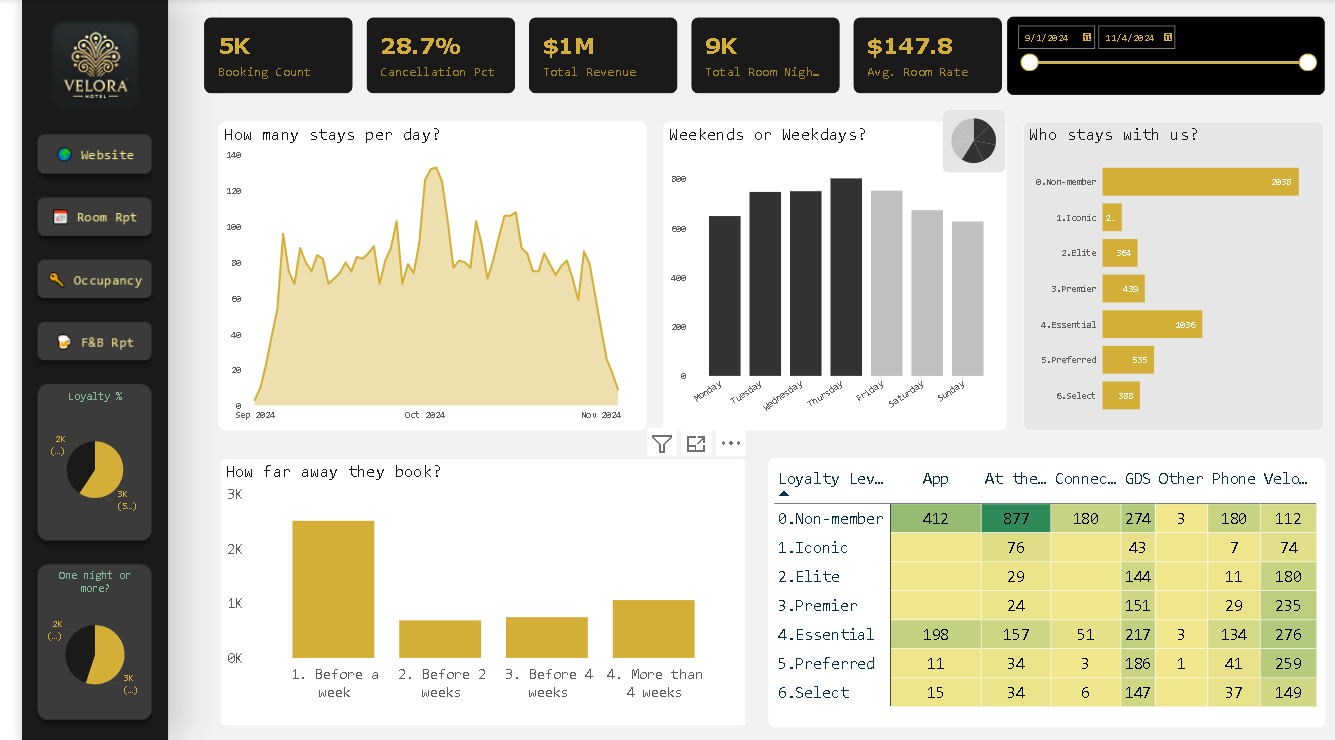

The page's visual inventory and layout, read from the dashboard file:
{"tool":"powerbi","page":{"name":"Bookings Report BLANK","canvas":[1920,1080],"ordinal":0},"visuals":[{"type":"cardVisual","fields":{"Data":["bookings.Booking Count","bookings.Cancellation Pct","bookings.Total Revenue","bookings.Total Room Nights","bookings.Avg. Room Rate"]},"box":[258,22,1168,120],"z":0},{"type":"lineChart","title":"How many stays per day?","fields":{"Category":["bookings.Stay Date"],"Y":["bookings.Booking Count"]},"box":[285,177.5,620,447.5],"z":1000},{"type":"slicer","fields":{"Values":["bookings.Stay Date"]},"box":[1425.6,25.6,460,113.3],"z":2000},{"type":"clusteredColumnChart","title":"Weekends or Weekdays?","fields":{"Category":["bookings.Day Name"],"Y":["bookings.Booking Count"]},"box":[927.5,177.5,497.5,447.5],"z":3000},{"type":"pieChart","fields":{"Y":["bookings.Booking Count"],"Category":["bookings.Day Name"]},"box":[1332.5,160,92.5,92.5],"z":4000},{"type":"clusteredBarChart","title":"Who stays with us?","fields":{"Category":["bookings.Loyalty Level"],"Y":["bookings.Booking Count"]},"box":[1450,177.5,435,447.5],"z":5000},{"type":"clusteredColumnChart","title":"How far away they book?","fields":{"Category":["bookings.How far away bucket"],"Y":["bookings.Booking Count"]},"box":[286,664,764,390],"z":6000},{"type":"pivotTable","fields":{"Rows":["bookings.Loyalty Level"],"Columns":["bookings.Booking Channel"],"Values":["bookings.Booking Count"]},"box":[1080,664,806,390],"z":7000},{"type":"pieChart","title":"Loyalty %","fields":{"Y":["bookings.Loyal Customer Booking Count","bookings.Not Loyal Customer Booking Count"]},"box":[28.2,566.4,153.6,211.8],"z":8000},{"type":"pieChart","title":"One night or more?","fields":{"Y":["bookings.Multi-night booking count","bookings.Single night booking count"]},"box":[28.2,825.5,153.6,211.8],"z":9000}]}

Visuals, with their boxes on the page's 1920x1080 design canvas (x1, y1, x2, y2). These are canvas units, not pixel positions in the 1335x740 screenshot, which may show the page scaled, cropped or inside an application window:
cardVisual - bookings.Booking Count x bookings.Cancellation Pct: x1=258, y1=22, x2=1426, y2=142
"How many stays per day?" lineChart: x1=285, y1=178, x2=905, y2=625
slicer - bookings.Stay Date: x1=1426, y1=26, x2=1886, y2=139
"Weekends or Weekdays?" clusteredColumnChart: x1=928, y1=178, x2=1425, y2=625
pieChart - bookings.Booking Count x bookings.Day Name: x1=1332, y1=160, x2=1425, y2=252
"Who stays with us?" clusteredBarChart: x1=1450, y1=178, x2=1885, y2=625
"How far away they book?" clusteredColumnChart: x1=286, y1=664, x2=1050, y2=1054
pivotTable - bookings.Loyalty Level x bookings.Booking Channel: x1=1080, y1=664, x2=1886, y2=1054
"Loyalty %" pieChart: x1=28, y1=566, x2=182, y2=778
"One night or more?" pieChart: x1=28, y1=826, x2=182, y2=1037
